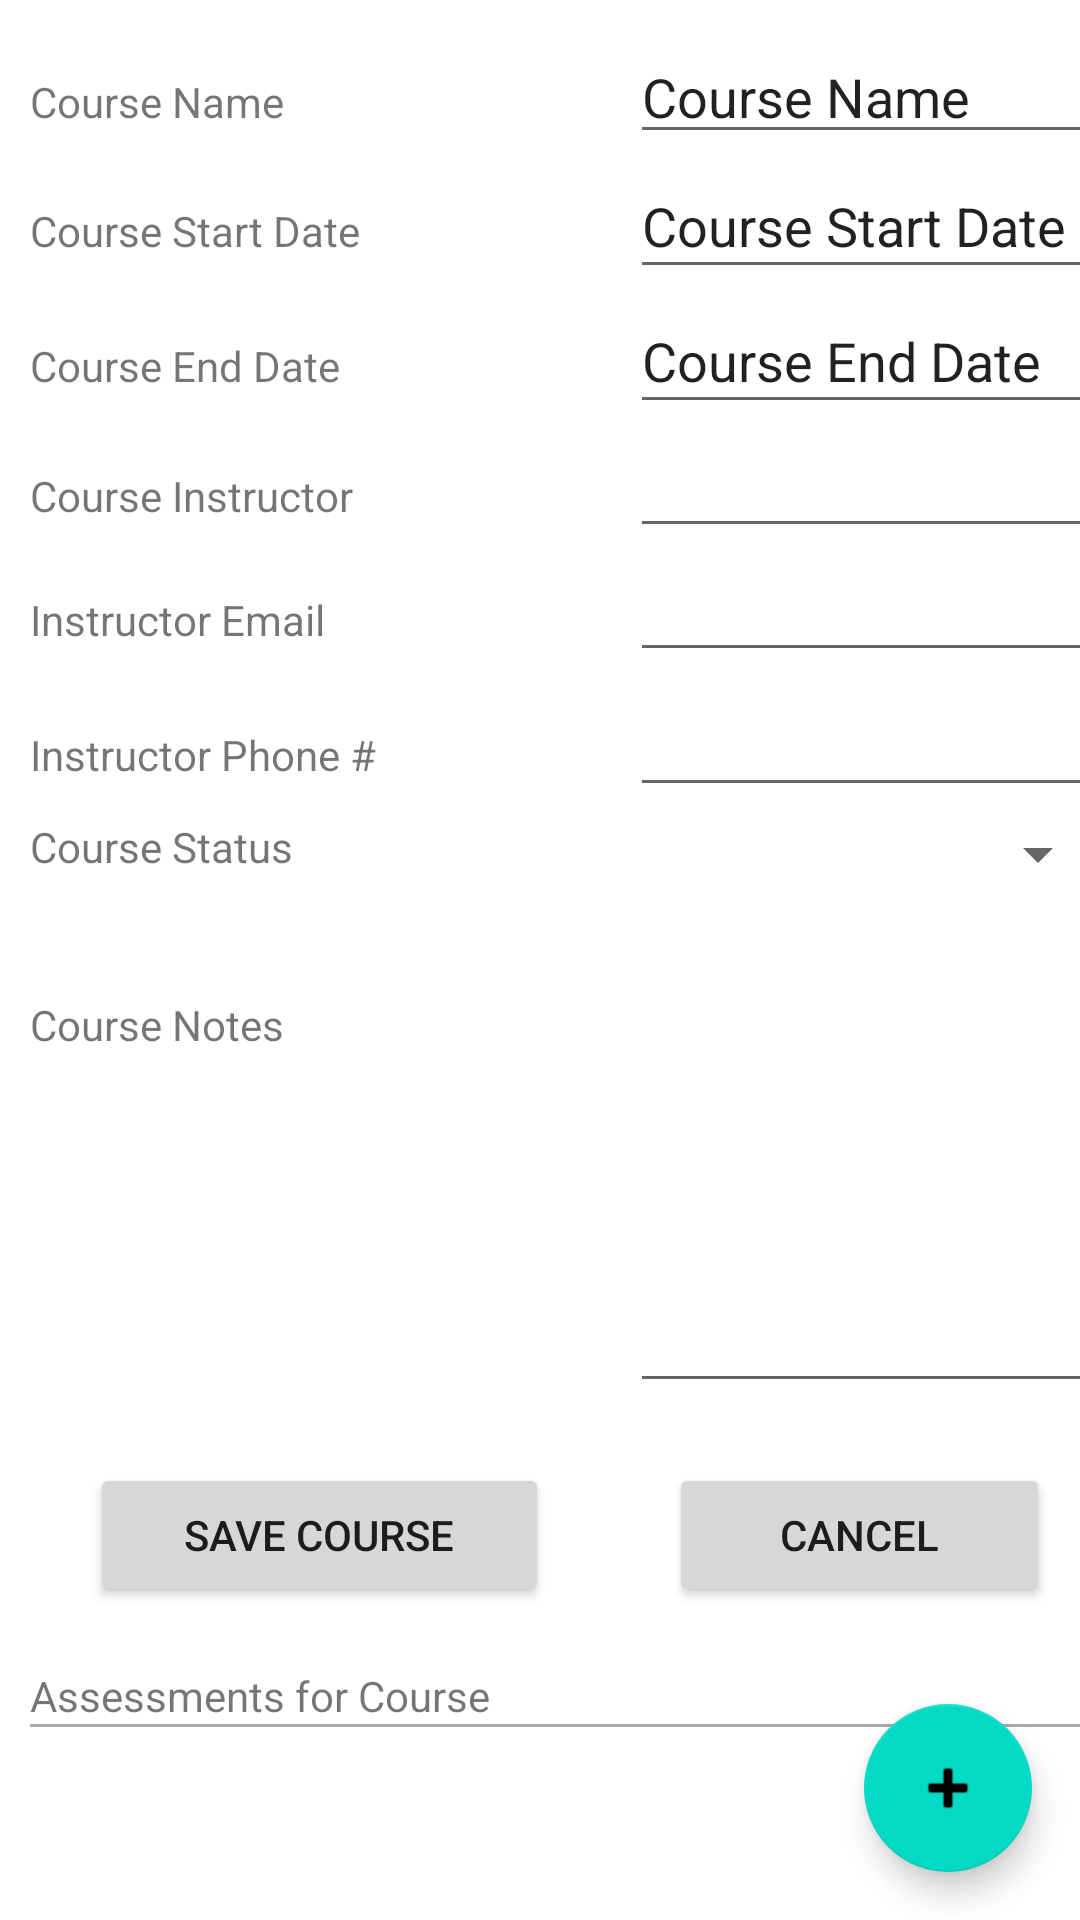

Where to tap for icons on this 1080px x 1920px app screen, as [x,y]:
Add Assessment: [948,1788]
